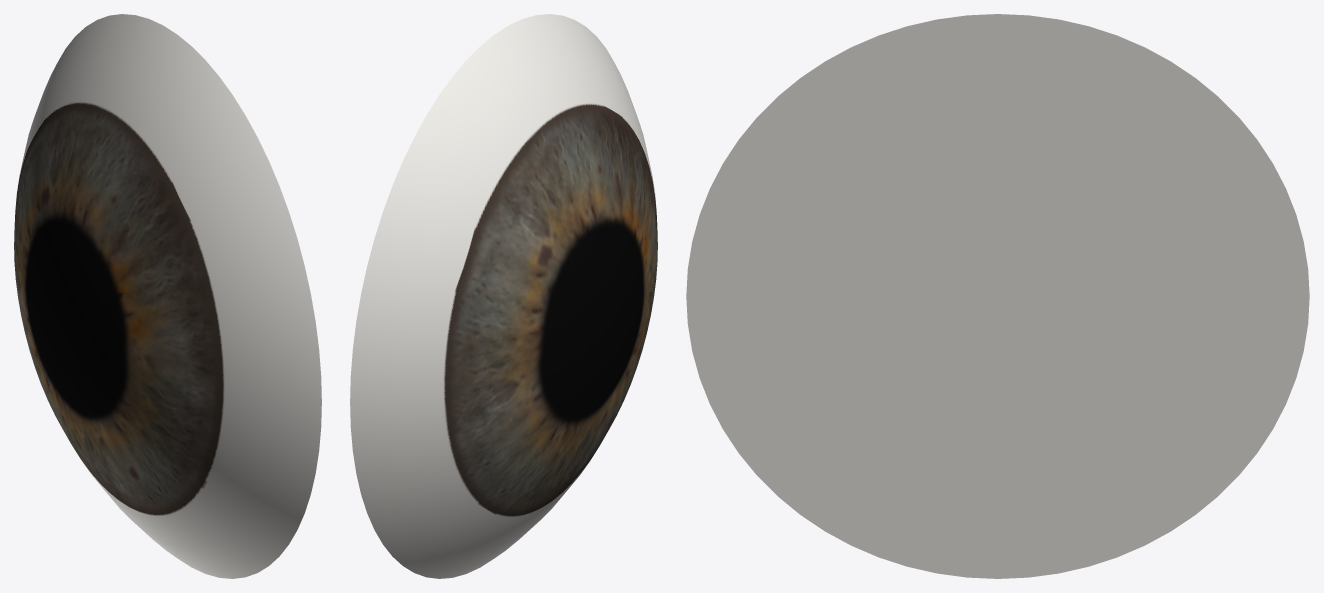
The model's file is eye.fbx.
The picture shows the model from 3 angles, left to right: view 1: azimuth 30°, elevation 25°; view 2: azimuth 150°, elevation 25°; view 3: azimuth 270°, elevation 25°; orthographic projection. The views are drawn at different scales.
Visible parts, largest first — view 1: 球体; view 2: 球体; view 3: 球体.
Boxes of the visible parts, x1,y1,x2,y2 form: 球体: [14, 14, 321, 578]; 球体: [350, 14, 657, 578]; 球体: [686, 14, 1309, 578].
Size of the model in its own units: 32.7 by 145 by 145.
1 material, 1 textured.
